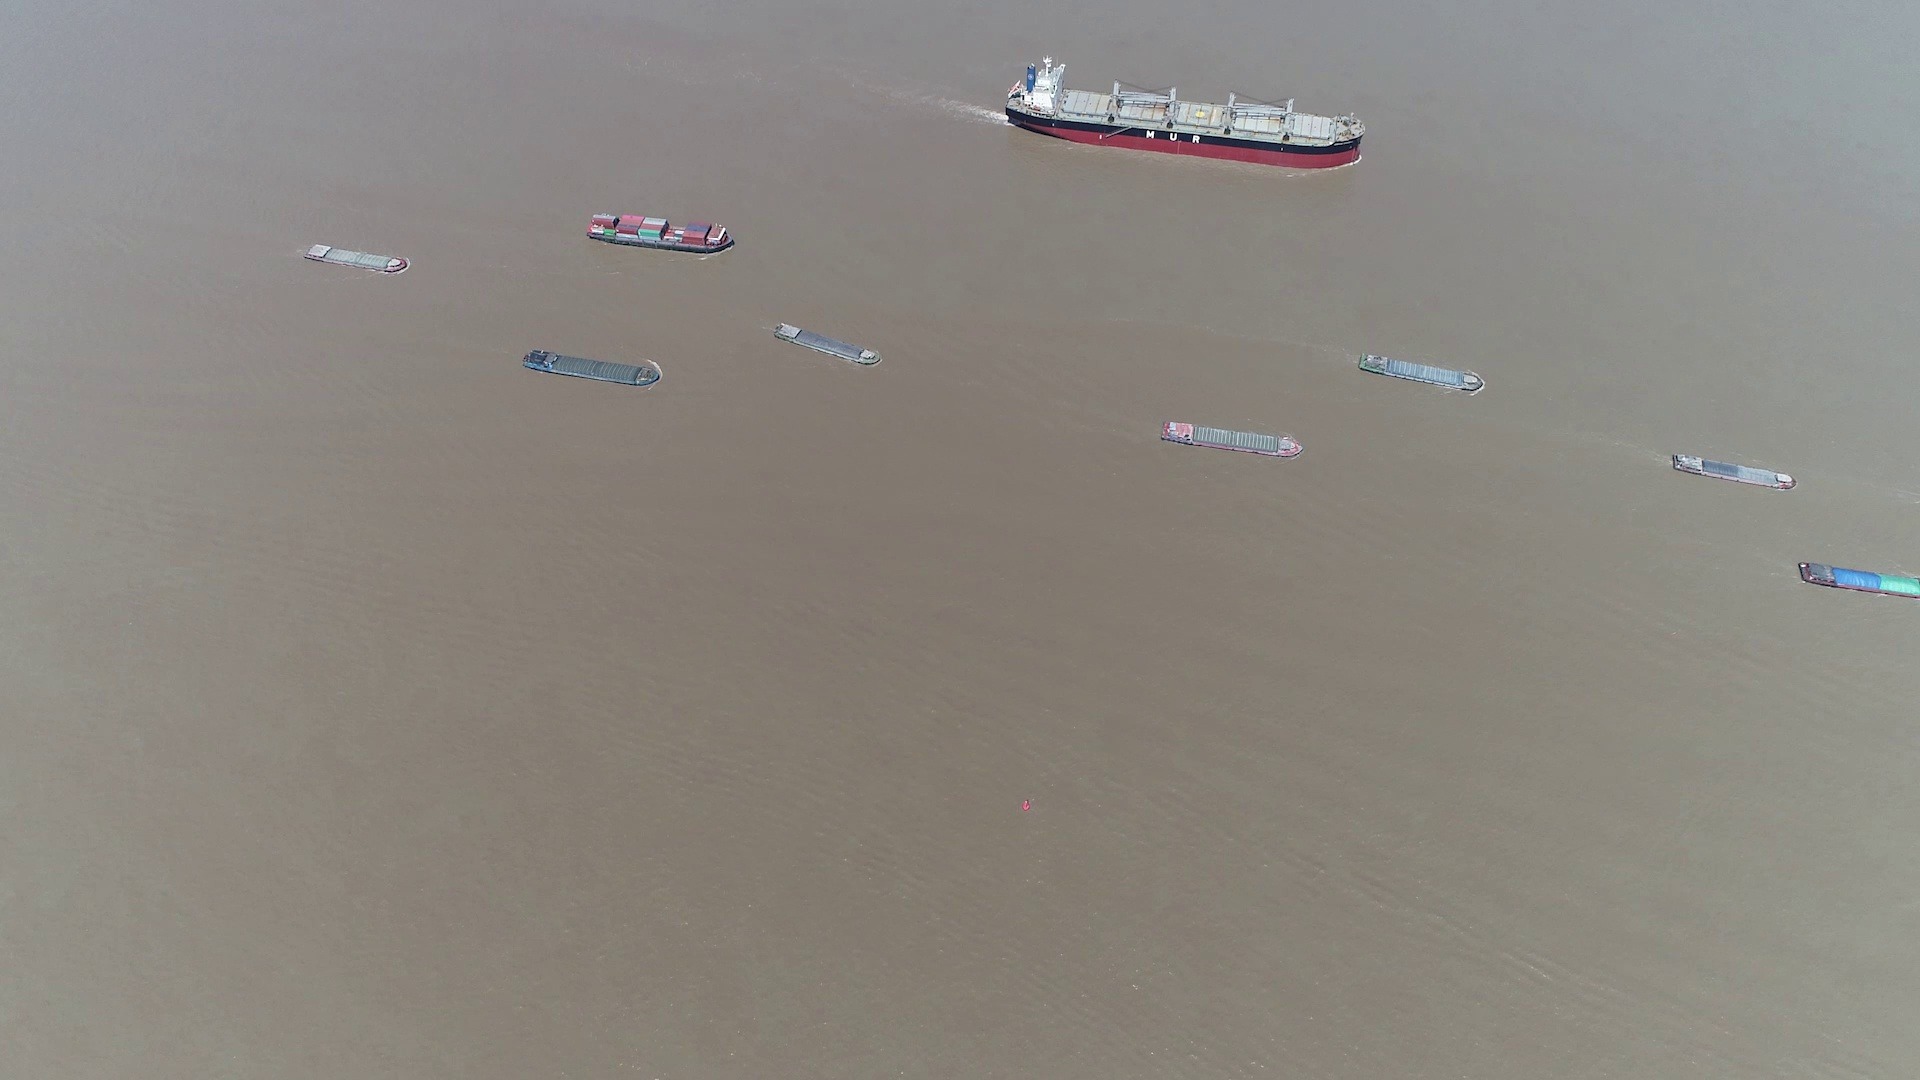ship: (1002, 63, 1366, 164), (585, 212, 735, 253), (1159, 418, 1300, 458), (1356, 351, 1484, 394), (522, 349, 662, 389), (771, 323, 884, 369), (1797, 559, 1920, 599), (1668, 451, 1795, 489), (302, 243, 407, 274)
